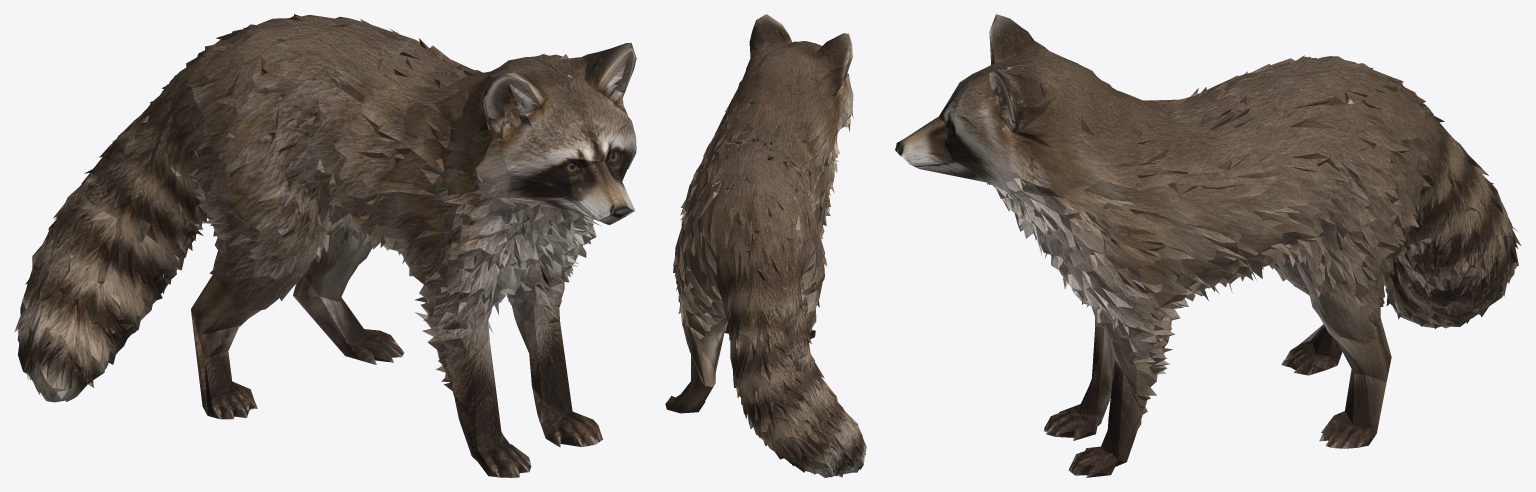
Rendered from raccoon.glb.
3 views of the same model, side by side, from view 1: azimuth 30°, elevation 25°; view 2: azimuth 150°, elevation 25°; view 3: azimuth 270°, elevation 25° (orthographic). The views are drawn at different scales.
Parts seen in each view (by area): view 1: output_unwrapped; view 2: output_unwrapped; view 3: output_unwrapped.
Boxes of the visible parts, box(x1,y1,x2,y2) form: output_unwrapped: box(14, 14, 636, 477); output_unwrapped: box(665, 14, 866, 477); output_unwrapped: box(895, 14, 1521, 477).
Size of the model in its own units: 0.3381 by 0.35 by 0.4951.
1 material, 1 textured.
